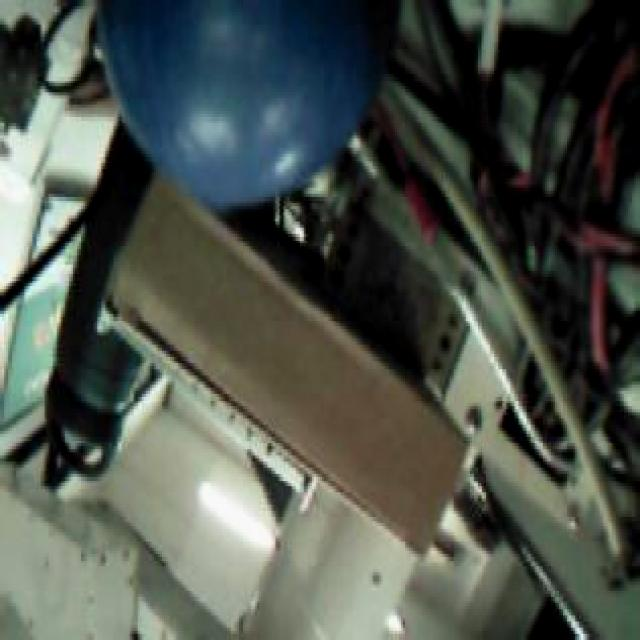BallPurple: (92, 0, 401, 205)
